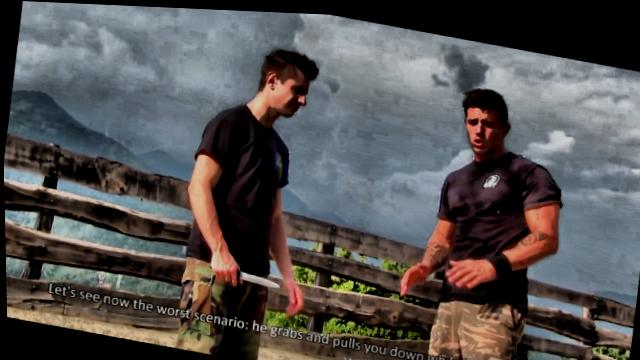knife: (202, 254, 282, 292)
